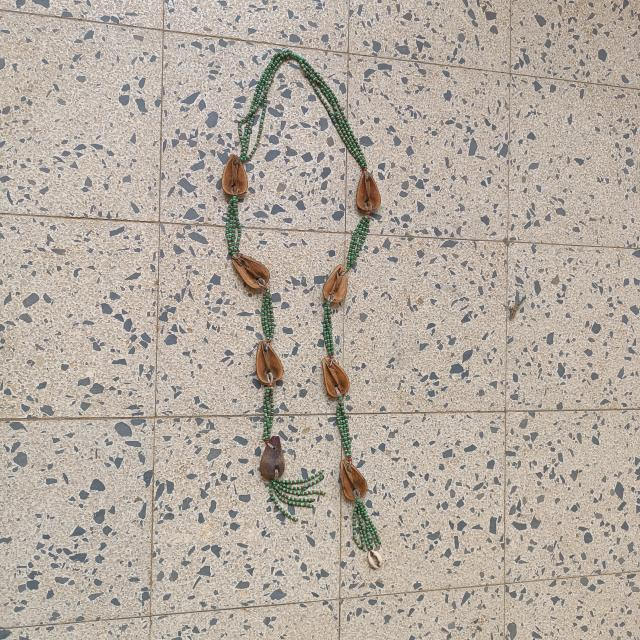facedown: (256, 432, 292, 486)
faceup: (223, 253, 277, 296), (347, 165, 388, 221), (312, 357, 356, 403), (337, 456, 371, 511), (252, 343, 287, 388), (321, 260, 352, 308), (220, 156, 252, 199)
